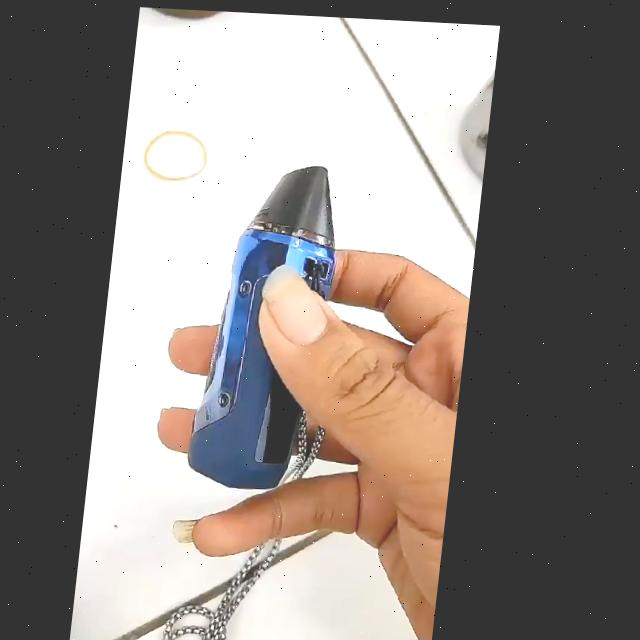vape: (198, 155, 352, 487)
